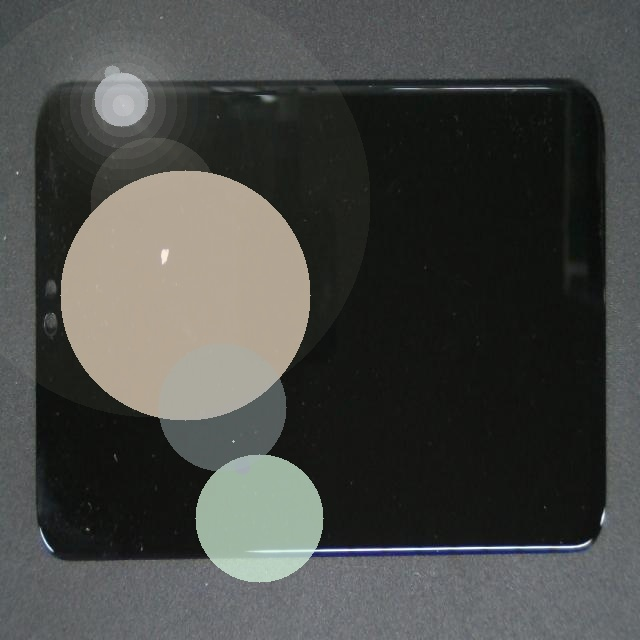stain: (101, 113, 248, 346)
